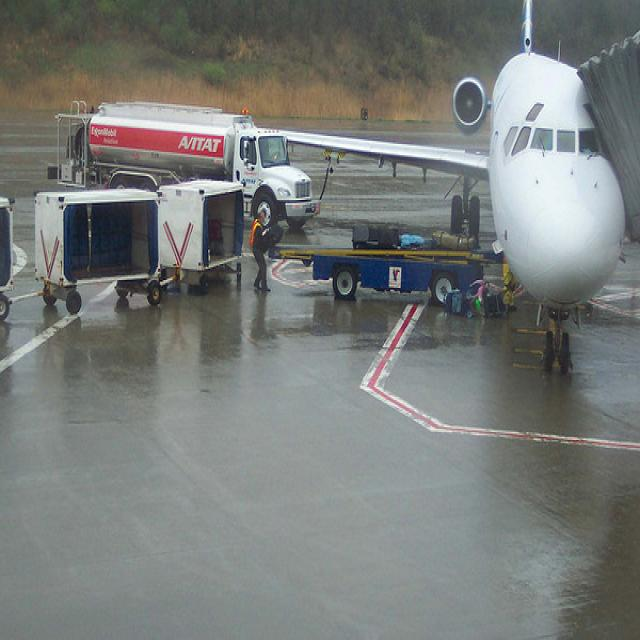Vehicle: (88, 100, 322, 229), (157, 180, 245, 270), (0, 192, 28, 320)
